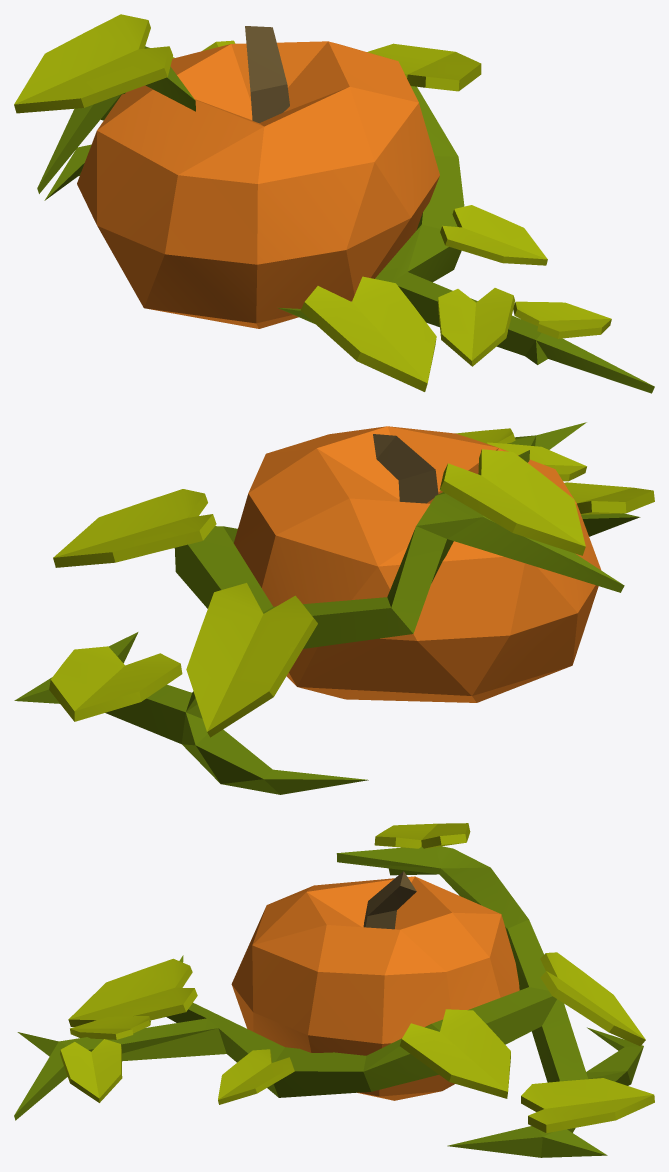
File: Pumpkin.fbx
3 renders of one model, top to bottom at view 1: azimuth 30°, elevation 25°; view 2: azimuth 150°, elevation 25°; view 3: azimuth 270°, elevation 25°, orthographic. The views are drawn at different scales.
Visible parts, largest first — view 1: Pumpkin; view 2: Pumpkin; view 3: Pumpkin.
Boxes of the visible parts, bbox=[...] form: Pumpkin: bbox=[14, 14, 654, 393]; Pumpkin: bbox=[14, 422, 654, 794]; Pumpkin: bbox=[14, 823, 654, 1157].
Size of the model in its own units: 76.27 by 38.04 by 107.
